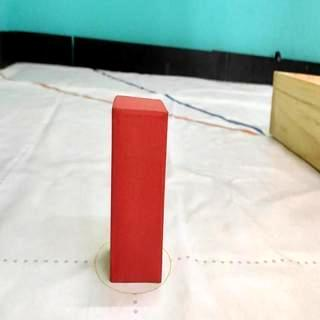redbox: (110, 93, 168, 284)
